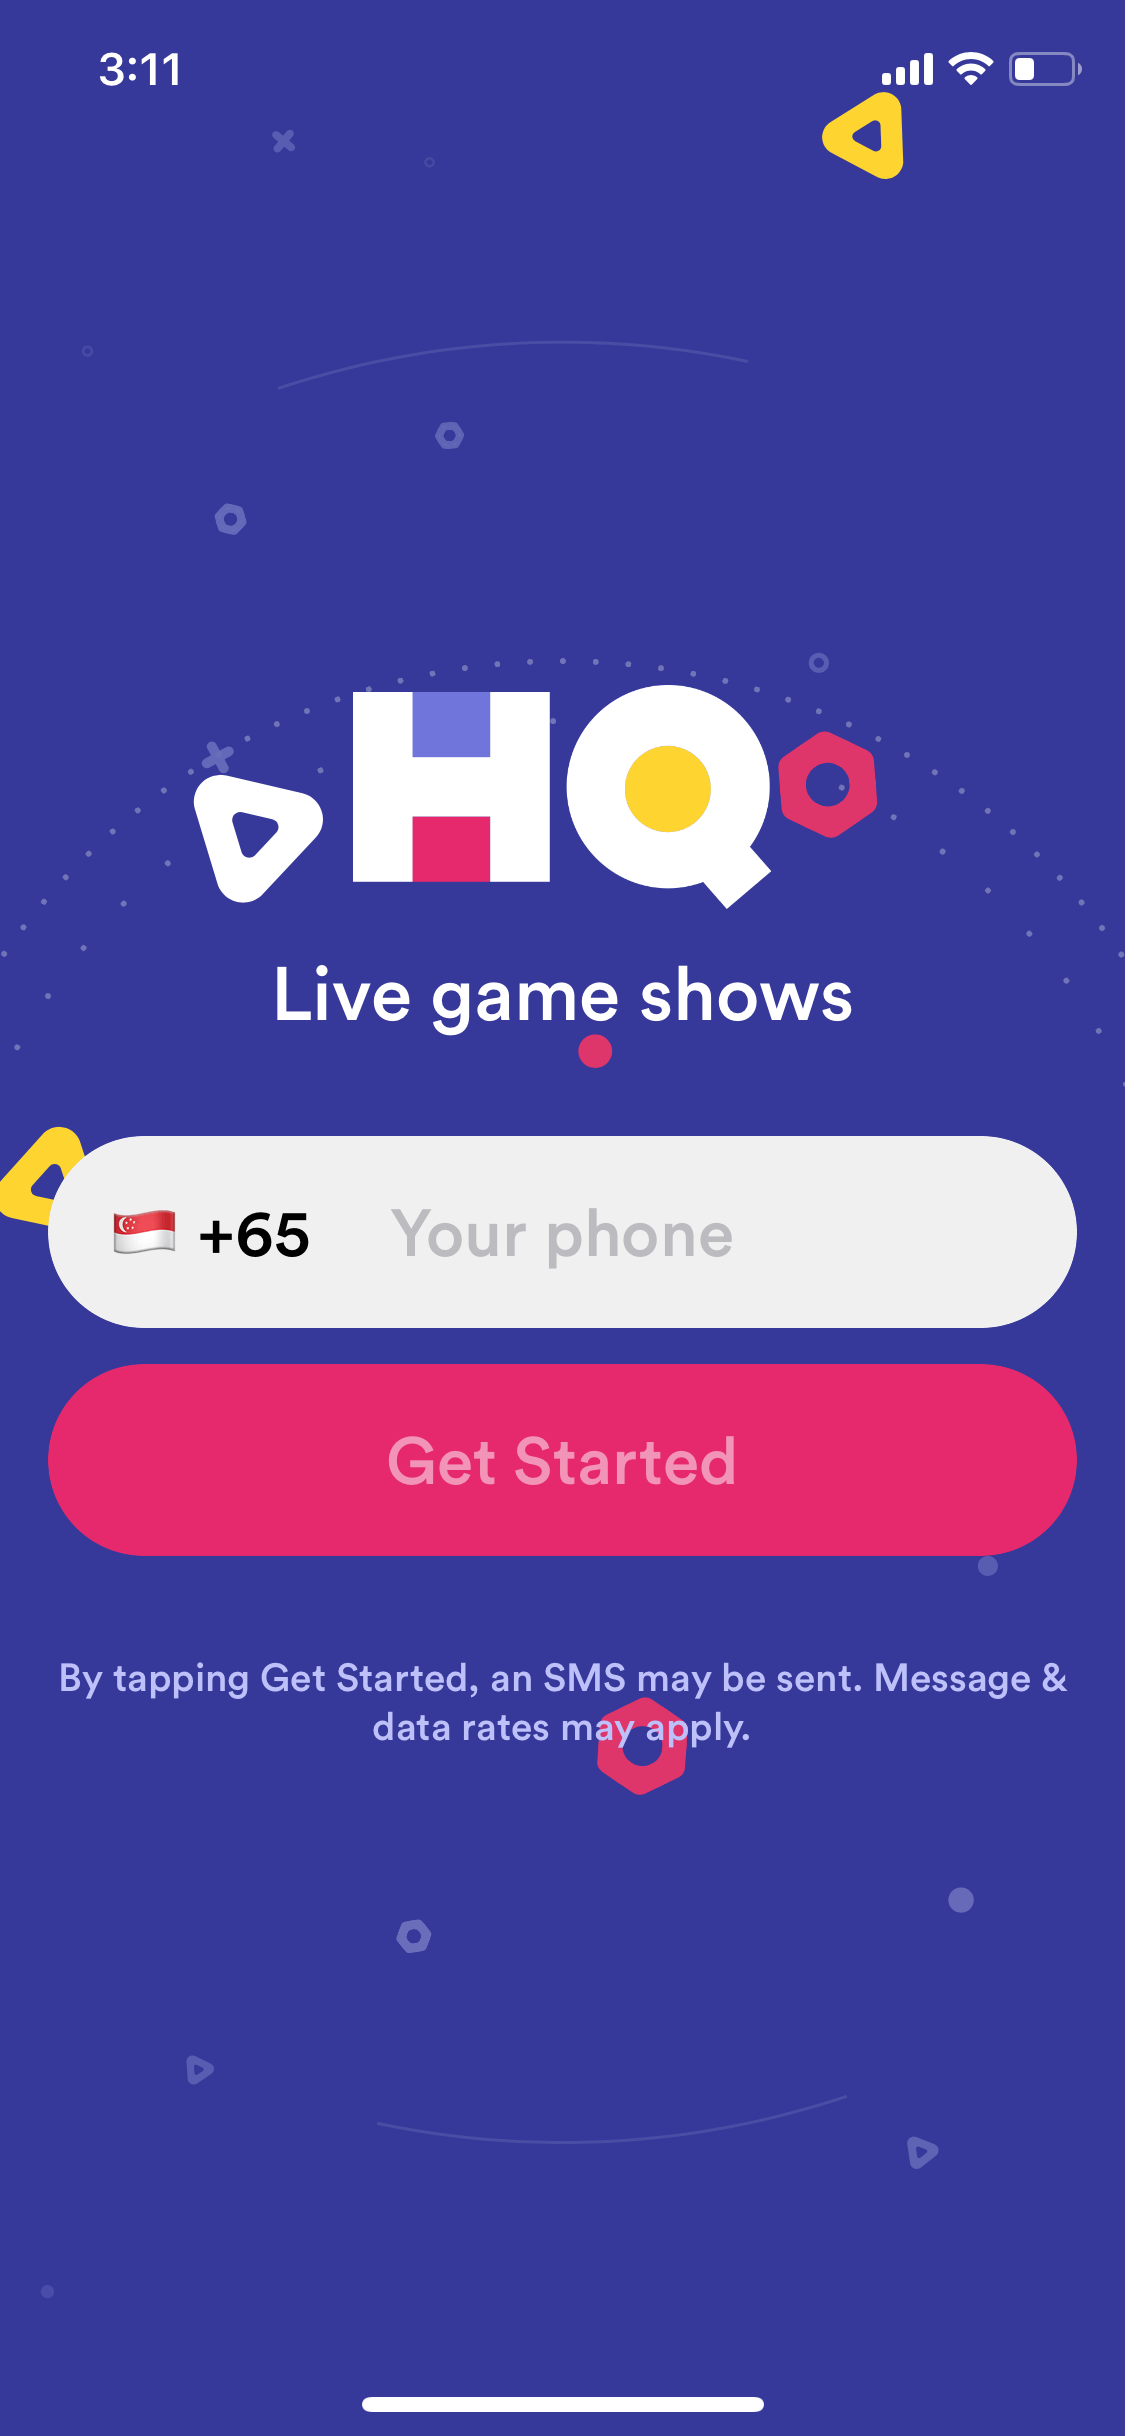Buttons: (36, 1339, 1092, 1561)
Text Fields: (47, 1126, 1088, 1342)
